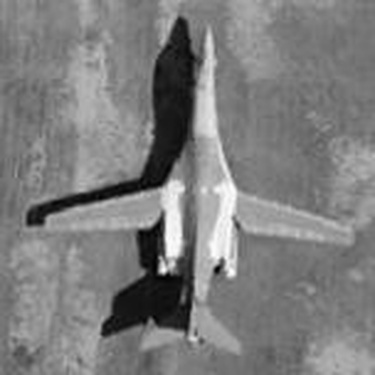airplane: (16, 10, 361, 359)
